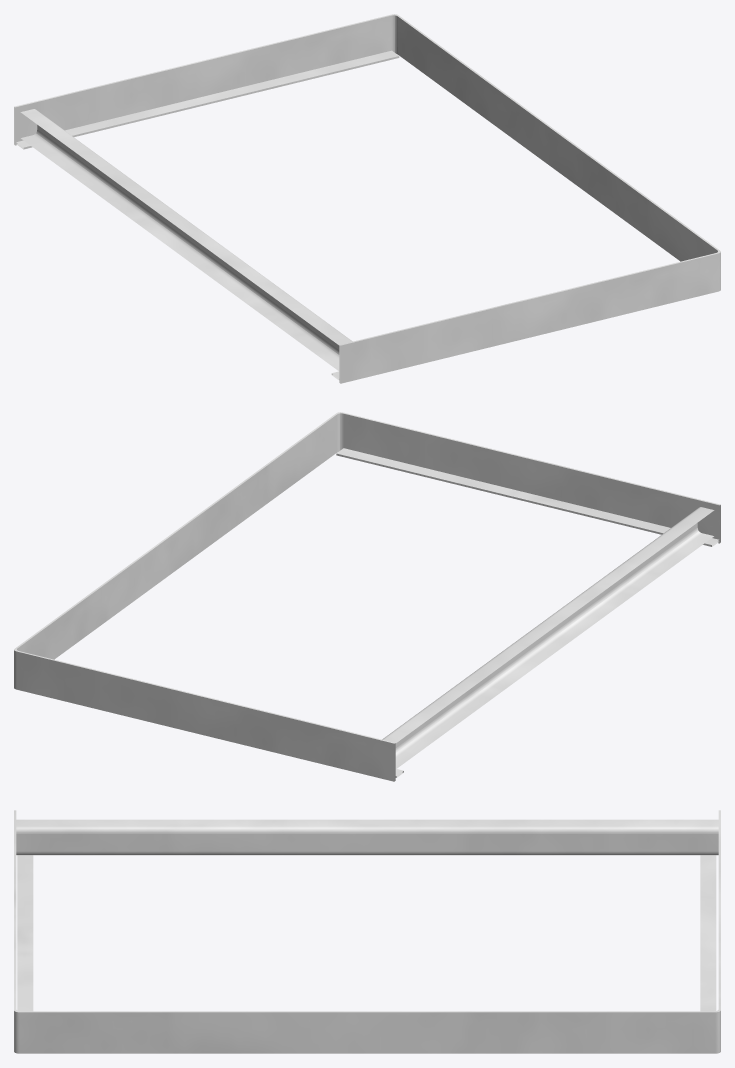
The model's file is ShelfMetalFrame60cm.fbx.
3 views of the same model, one above another, from view 1: azimuth 30°, elevation 25°; view 2: azimuth 150°, elevation 25°; view 3: azimuth 270°, elevation 25° (orthographic). The views are drawn at different scales.
Parts seen in each view (by area): view 1: ShelfMetalFrame60cm; view 2: ShelfMetalFrame60cm; view 3: ShelfMetalFrame60cm.
Boxes of the visible parts, box(x1,y1,x2,y2) form: ShelfMetalFrame60cm: box(14, 14, 720, 383); ShelfMetalFrame60cm: box(14, 412, 720, 781); ShelfMetalFrame60cm: box(14, 810, 720, 1053).
Size of the model in its own units: 41.9 by 62 by 4.
Materials: 1 (1 with a texture image).
